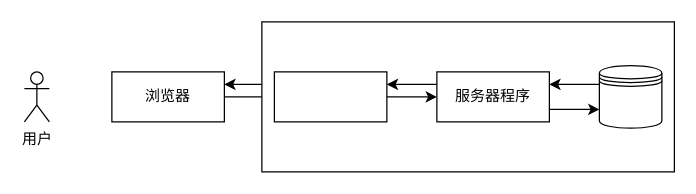
Some shapes in this 696 by 194 pixel diagram are drawn without their labels. Here are the shapes that lost their labels. From the top down, the box of each, then its label:
(273, 71, 387, 122): 网站程序
(598, 64, 662, 128): 数据库
